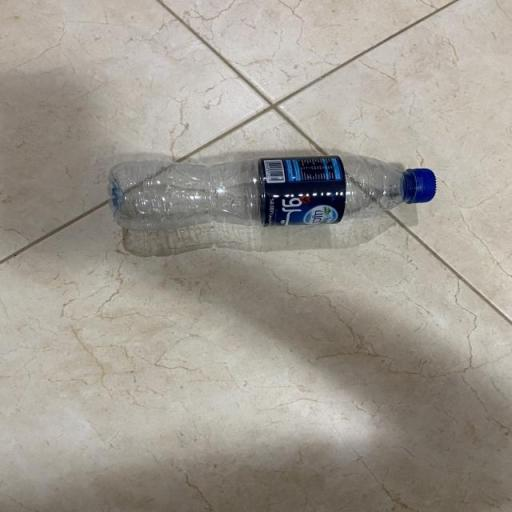plastic: (104, 150, 438, 228)
